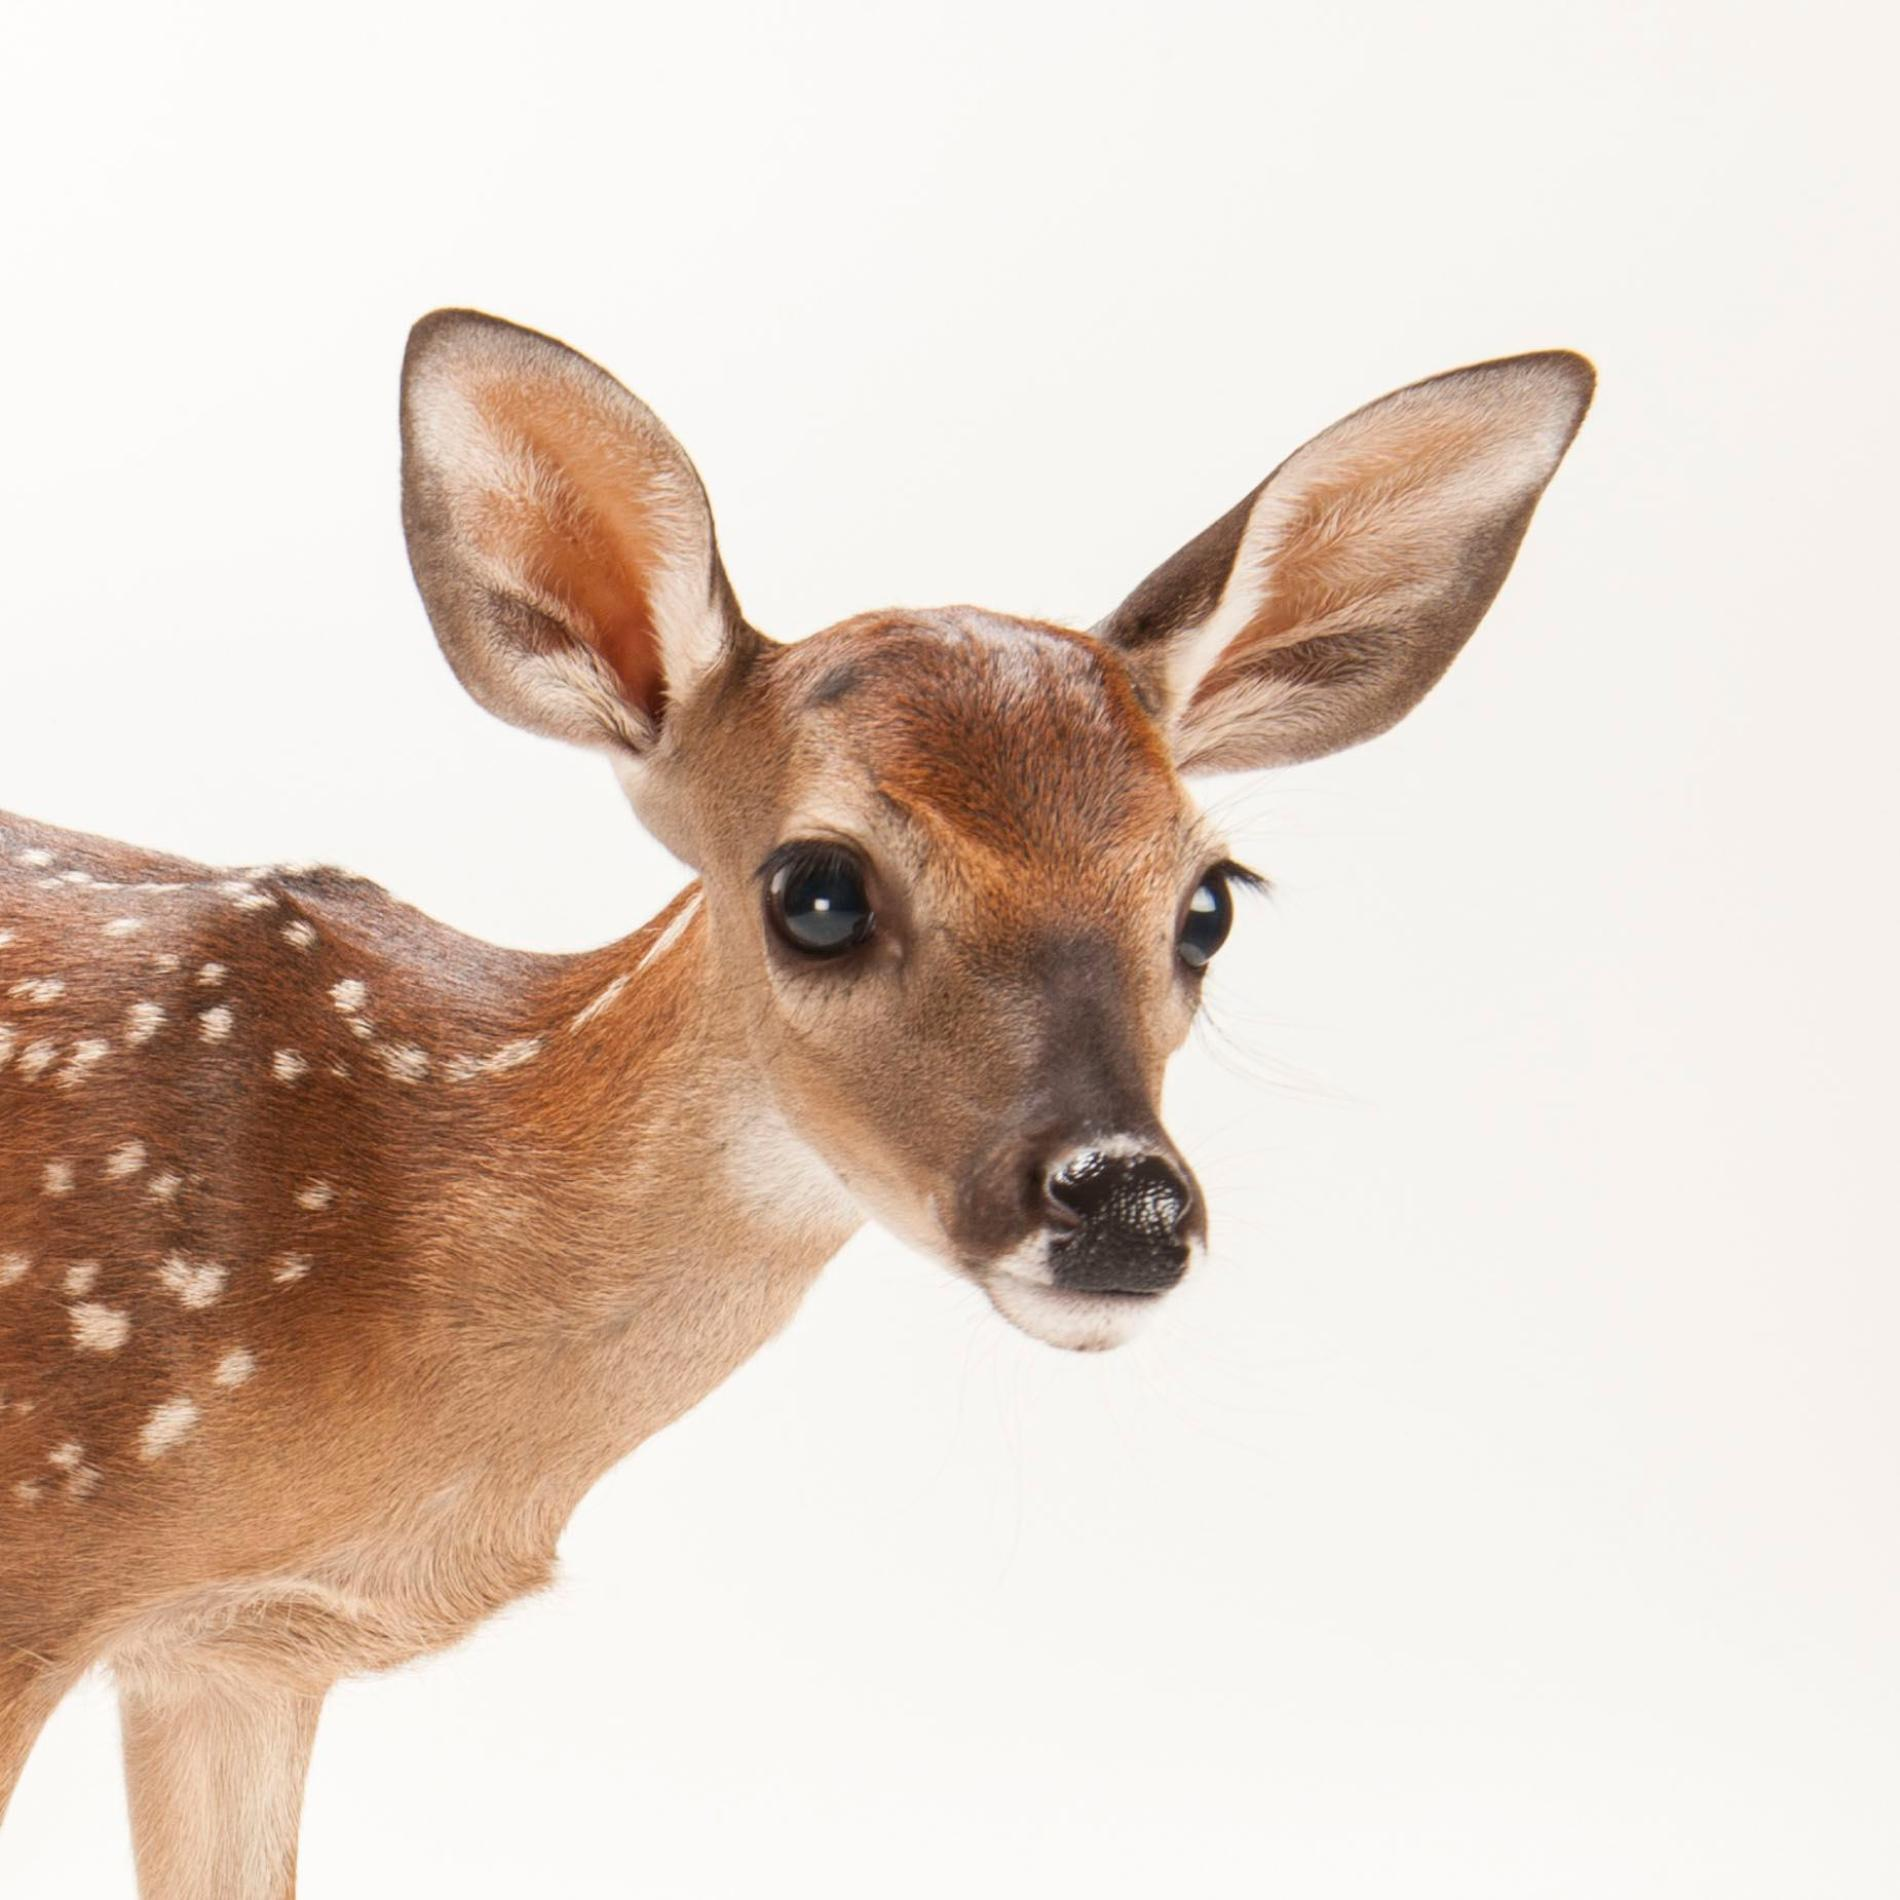Deer: (9, 329, 1587, 1900)
